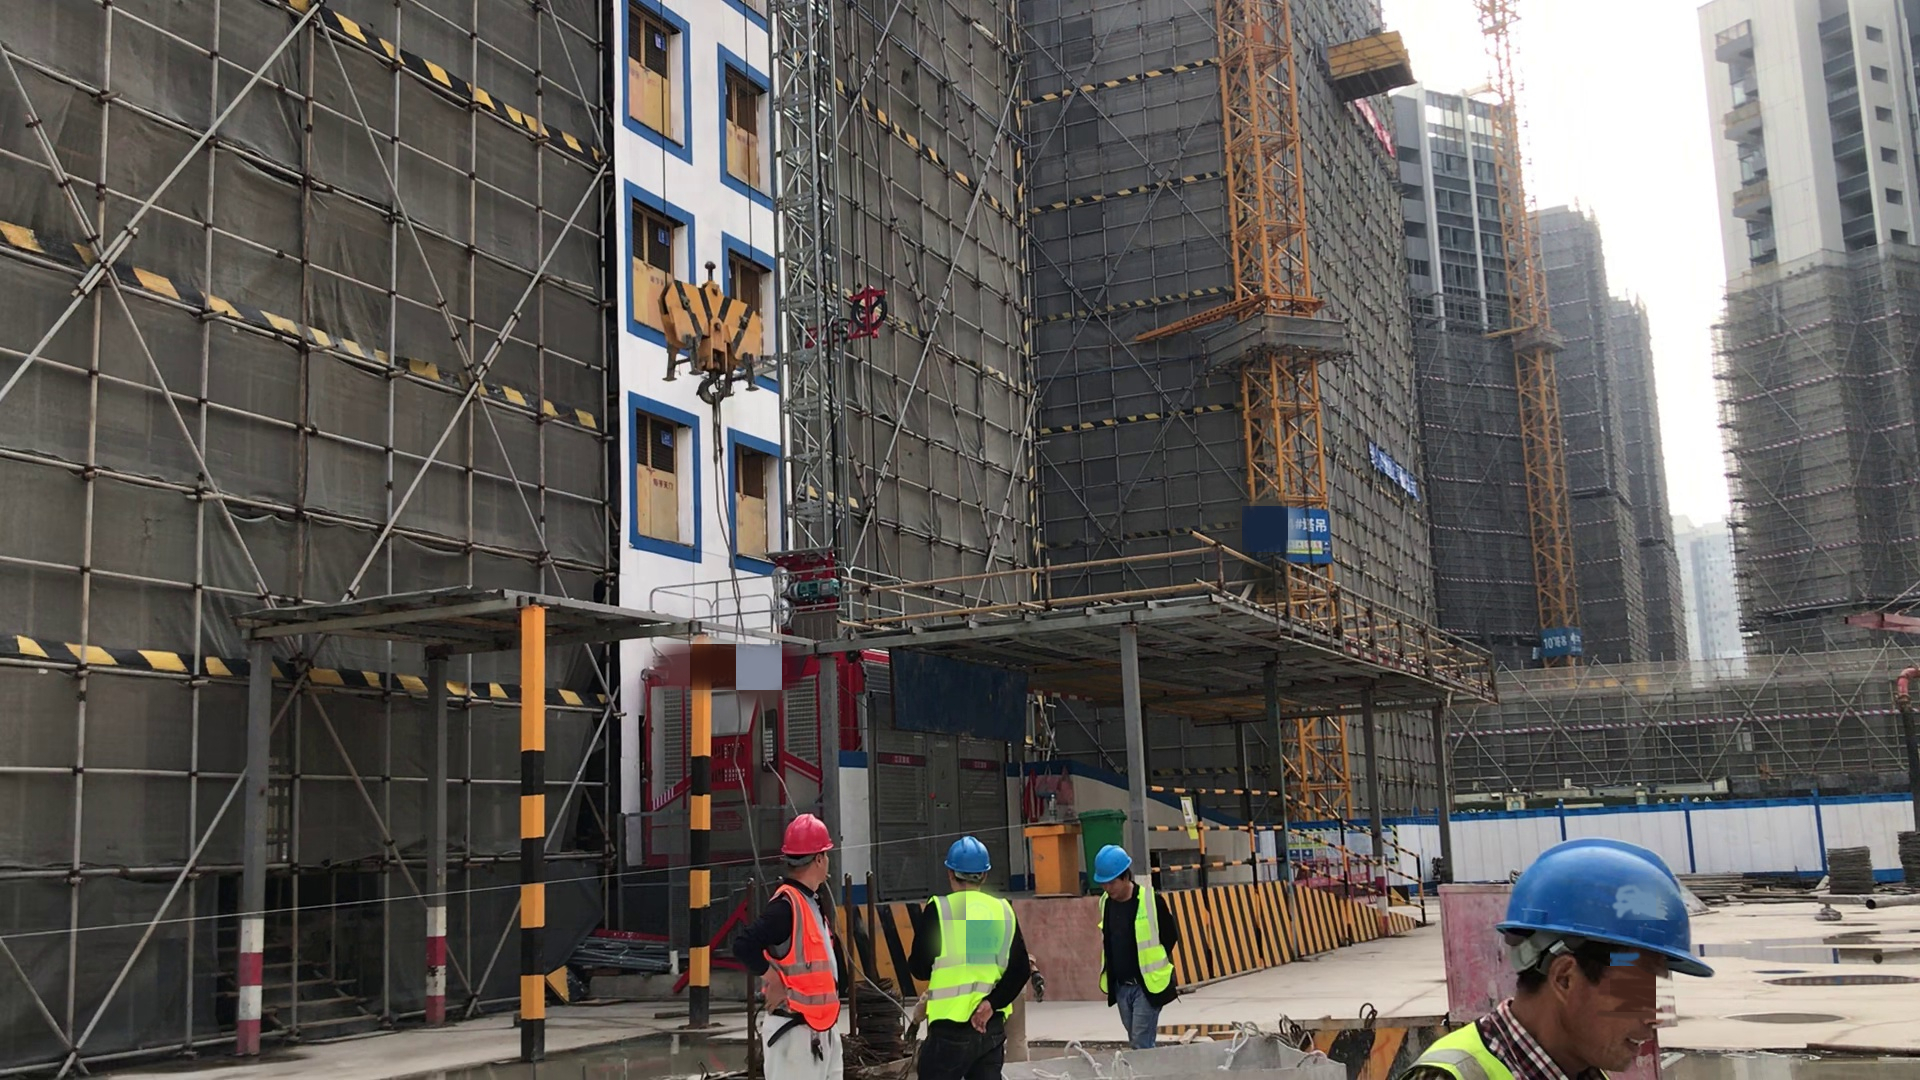fence: (1138, 765, 1500, 922)
helmet: (1495, 838, 1717, 988), (786, 811, 836, 860), (945, 831, 994, 874), (1092, 847, 1142, 878)
hook: (658, 263, 784, 402)
hopper: (1002, 1034, 1351, 1080), (1299, 1008, 1452, 1078)
person: (1397, 827, 1722, 1080), (739, 814, 864, 1080), (907, 834, 1039, 1080), (1083, 839, 1192, 1049)
vest: (921, 883, 1022, 1025), (769, 877, 847, 1033), (1407, 1001, 1547, 1080), (1089, 883, 1177, 1004)
